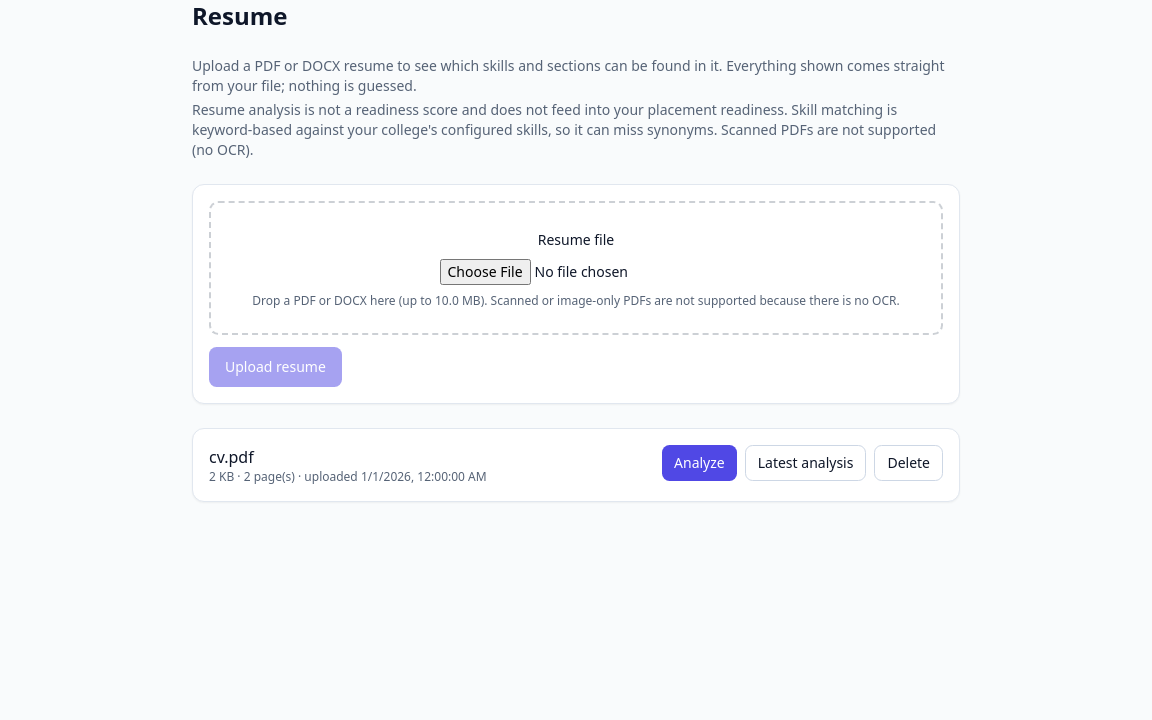
Test: ResumePage › asks for in-page confirmation before deleting
Expected: the text "cv.pdf" is shown, [209, 446, 254, 468]
Click the button "Delete": (909, 463) [874, 445, 943, 481]
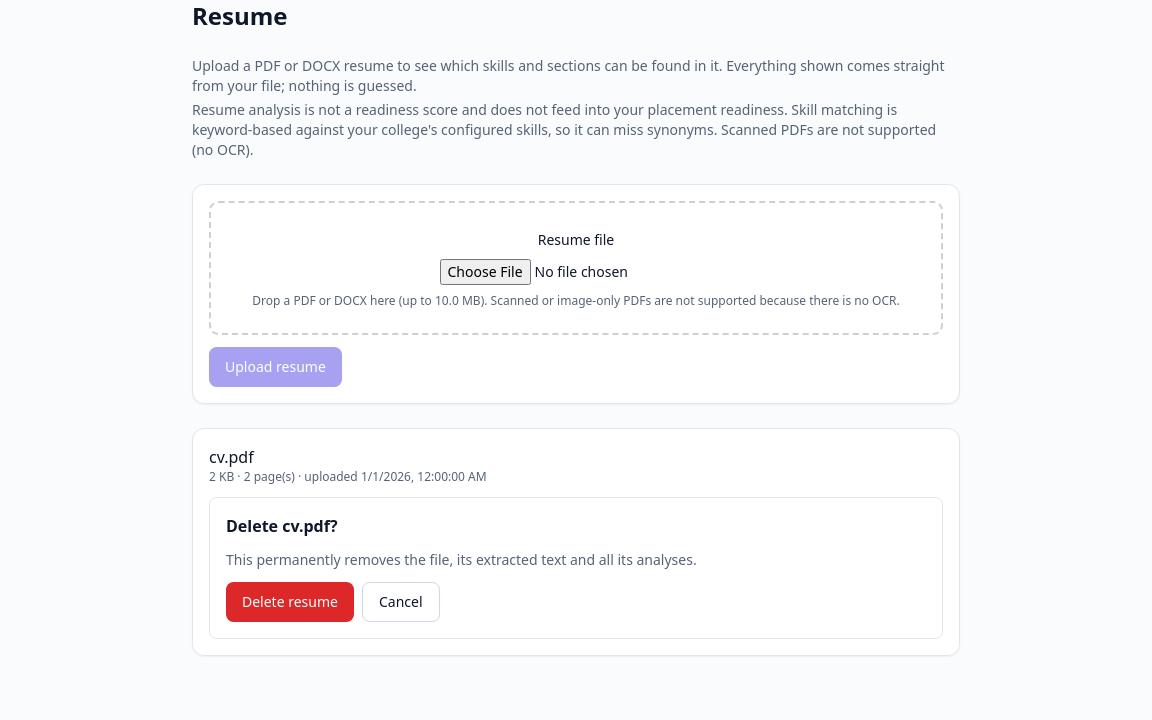
Click the button "Cancel": (401, 602) [362, 582, 440, 622]
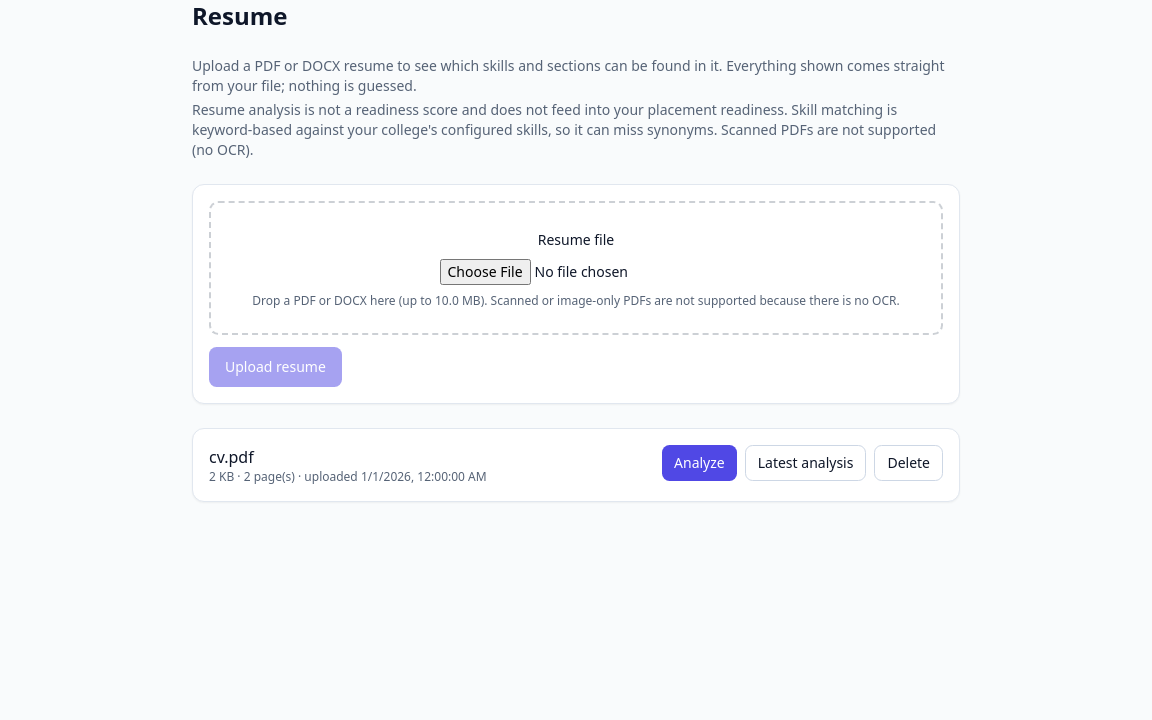
Expected: the dialog is gone
Click the button "Delete": (909, 463) [874, 445, 943, 481]
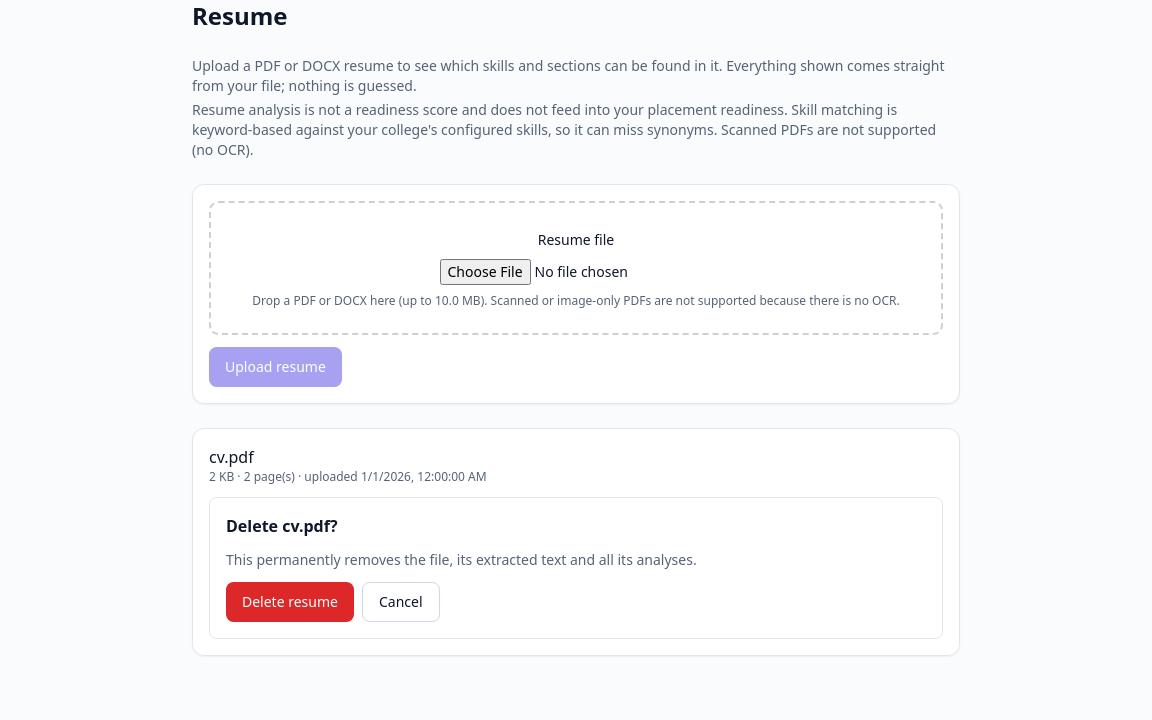
Click the button "Delete resume": (290, 602) [226, 582, 354, 622]
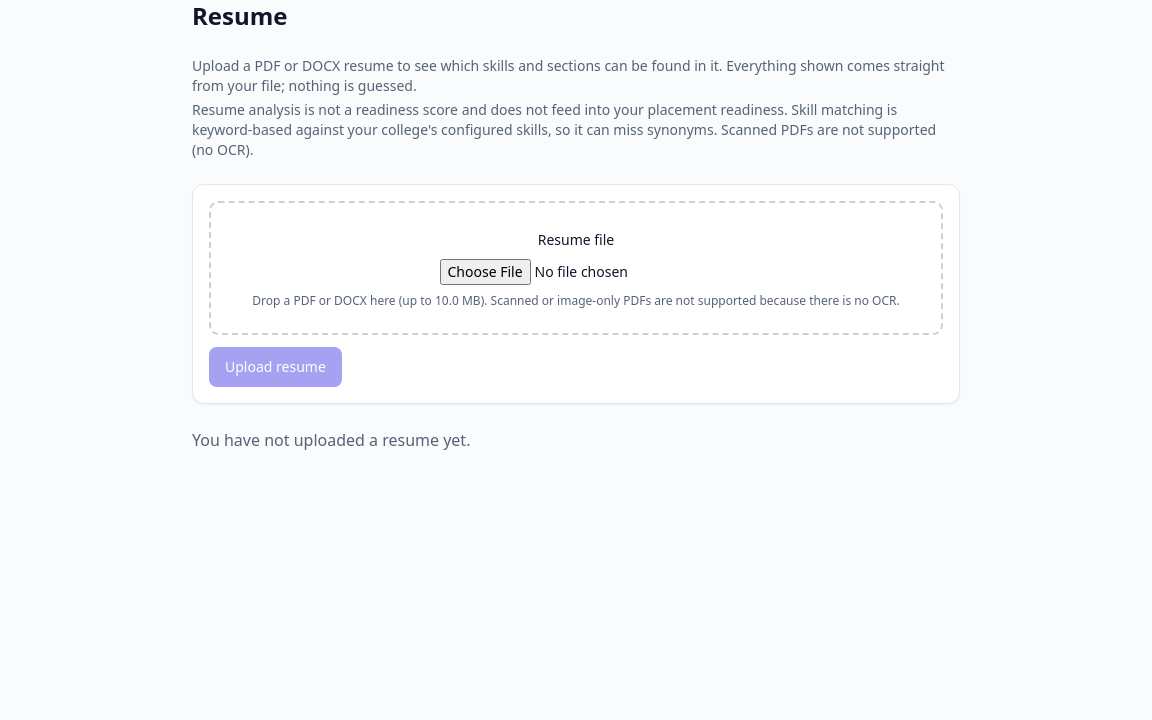
Expected: the text "cv.pdf" is gone
